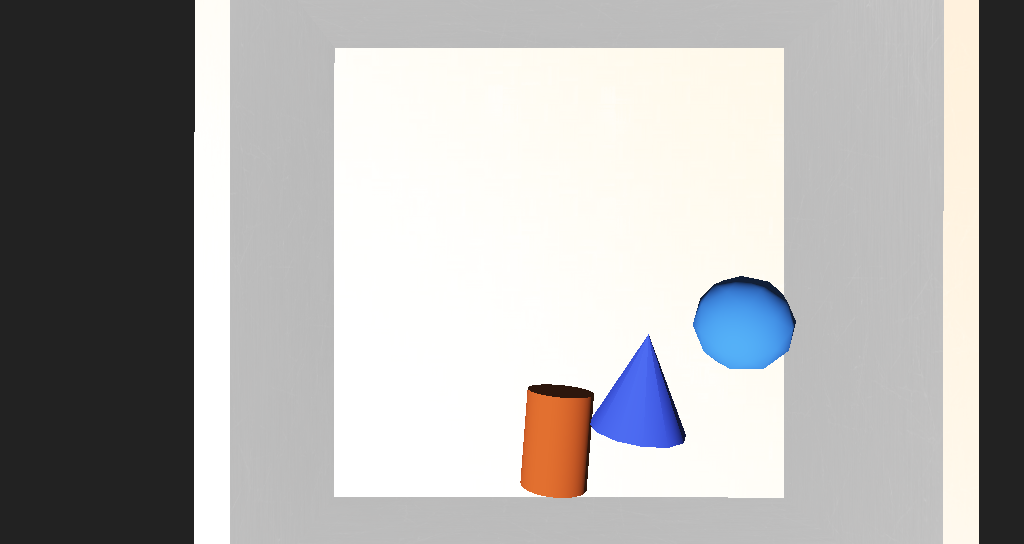cone: (482, 322, 529, 375)
cylinder: (529, 291, 603, 348)
sphere: (596, 267, 657, 315)
